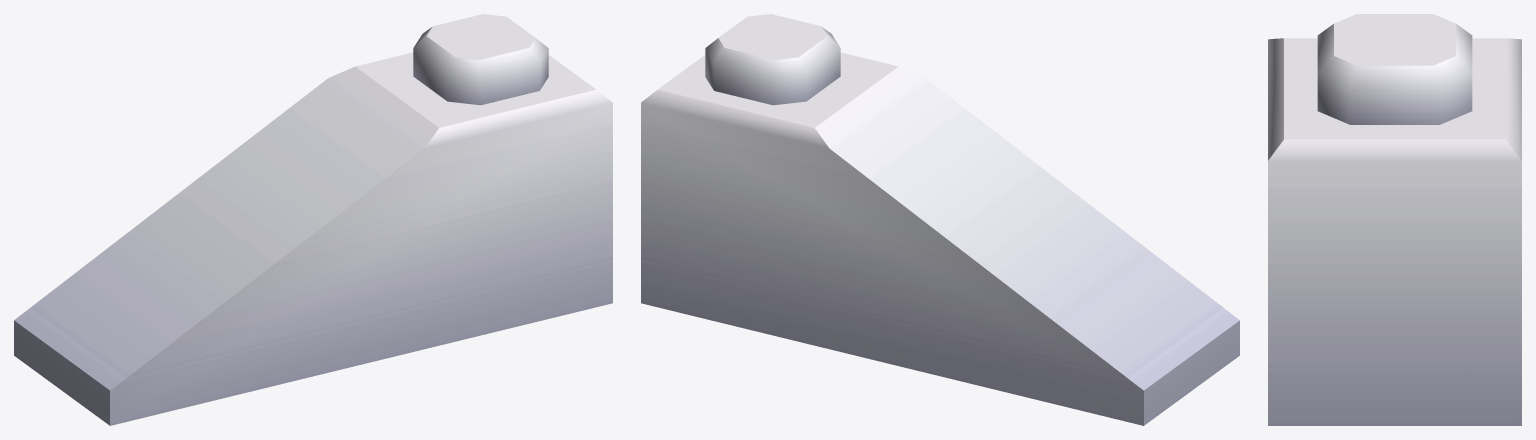
Rendered from bevel-hq-brick-slope-3x1.glb.
3 views of the same model, side by side, from view 1: azimuth 30°, elevation 25°; view 2: azimuth 150°, elevation 25°; view 3: azimuth 270°, elevation 25° (orthographic). The views are drawn at different scales.
Parts seen in each view (by area): view 1: bevel-hq-brick-slope-3x1; view 2: bevel-hq-brick-slope-3x1; view 3: bevel-hq-brick-slope-3x1.
Part boxes in pixels (x1,y1,x2,y2): bevel-hq-brick-slope-3x1: (14, 14, 612, 425); bevel-hq-brick-slope-3x1: (641, 14, 1239, 425); bevel-hq-brick-slope-3x1: (1268, 14, 1521, 425).
Bounding box in the file's own units: 0.2385 × 0.114 × 0.079.
1 material, 1 textured.
